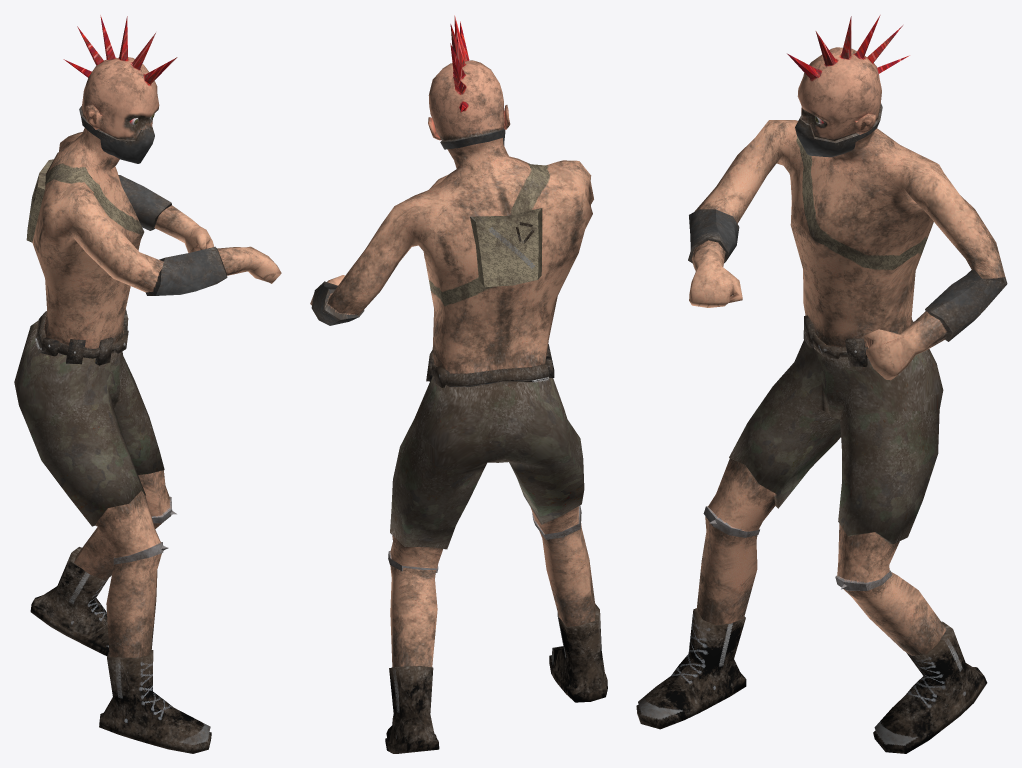
The model's file is Anim_arma_cc_npc2.0012.obj.
3 views of the same model, side by side, from view 1: azimuth 30°, elevation 25°; view 2: azimuth 150°, elevation 25°; view 3: azimuth 270°, elevation 25° (orthographic). The views are drawn at different scales.
Visible parts, largest first — view 1: polySurface1; view 2: polySurface1; view 3: polySurface1.
Boxes of the visible parts, x1,y1,x2,y2 form: polySurface1: [14, 15, 281, 753]; polySurface1: [310, 15, 607, 753]; polySurface1: [636, 15, 1007, 753].
Bounding box in the file's own units: 3.28 × 9.8 × 4.56.
